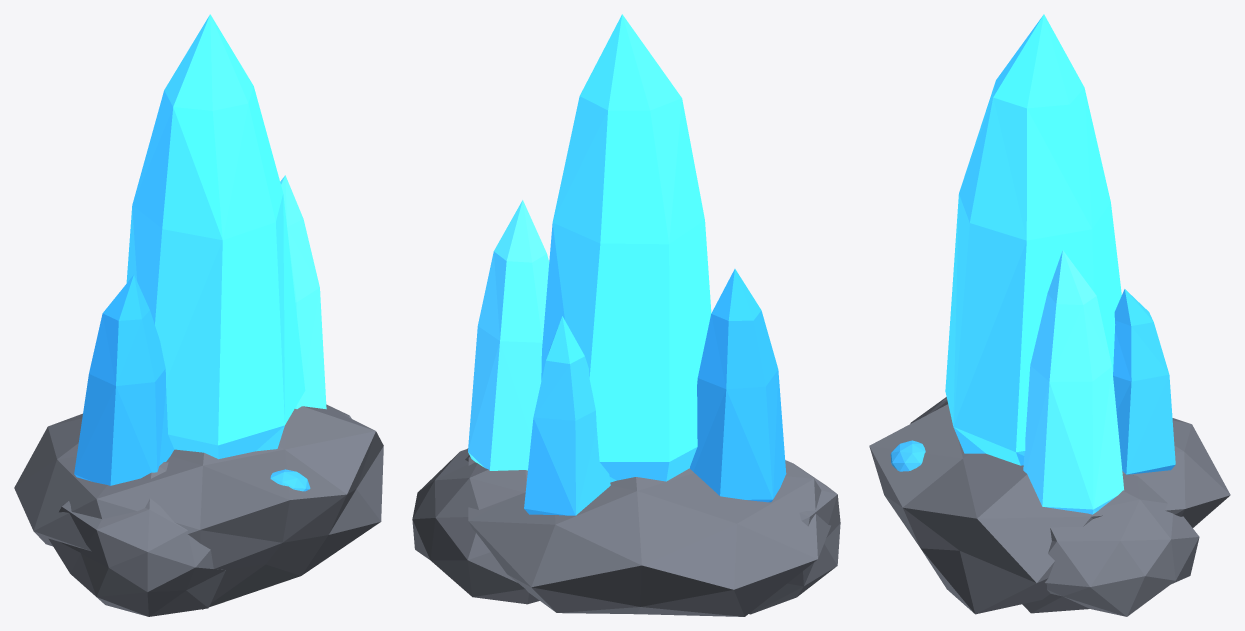
File: crystal-mine-placeholder.gltf
3 renders of one model, left to right at view 1: azimuth 30°, elevation 25°; view 2: azimuth 150°, elevation 25°; view 3: azimuth 270°, elevation 25°, orthographic. The views are drawn at different scales.
Parts seen in each view (by area): view 1: main_blue_crystal, basalt_rock_1, left_shard, basalt_rock_2, right_shard, ore_nodule_3; view 2: main_blue_crystal, basalt_rock_1, left_shard, right_shard, rear_shard, basalt_rock_3, basalt_rock_2; view 3: main_blue_crystal, basalt_rock_1, right_shard, basalt_rock_3, rear_shard, ore_nodule_3.
Part boxes in pixels (box(x1,y1,x2,y2)): main_blue_crystal: box(126, 14, 305, 459); basalt_rock_1: box(14, 406, 383, 609); left_shard: box(74, 275, 174, 485); basalt_rock_2: box(48, 462, 225, 616); right_shard: box(280, 175, 326, 409); ore_nodule_3: box(270, 469, 310, 491); main_blue_crystal: box(541, 14, 711, 482); basalt_rock_1: box(465, 448, 830, 616); left_shard: box(690, 269, 786, 502); right_shard: box(468, 200, 549, 470); rear_shard: box(524, 316, 610, 515); basalt_rock_3: box(412, 449, 539, 604); basalt_rock_2: box(749, 460, 840, 614); main_blue_crystal: box(945, 14, 1121, 465); basalt_rock_1: box(869, 401, 1230, 614); right_shard: box(1023, 250, 1123, 514); basalt_rock_3: box(1022, 474, 1199, 616); rear_shard: box(1113, 289, 1175, 474); ore_nodule_3: box(890, 440, 925, 471).
Bounding box in the file's own units: 0.9348 × 1.41 × 0.8125.
